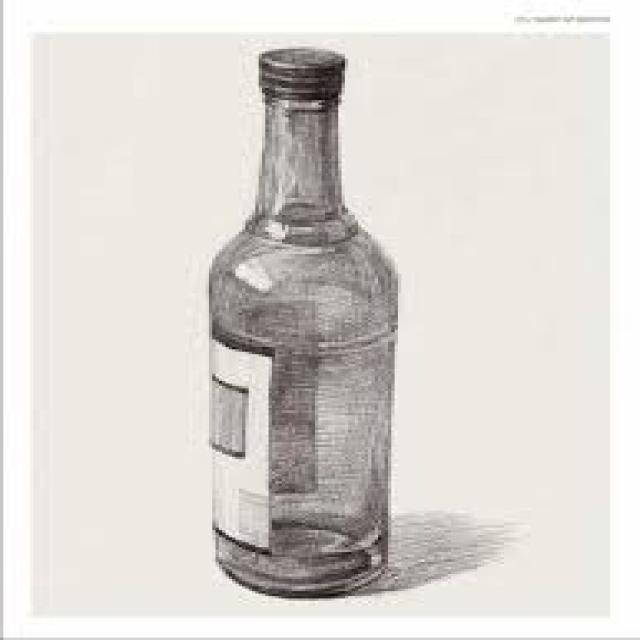bottle: (209, 49, 397, 596)
